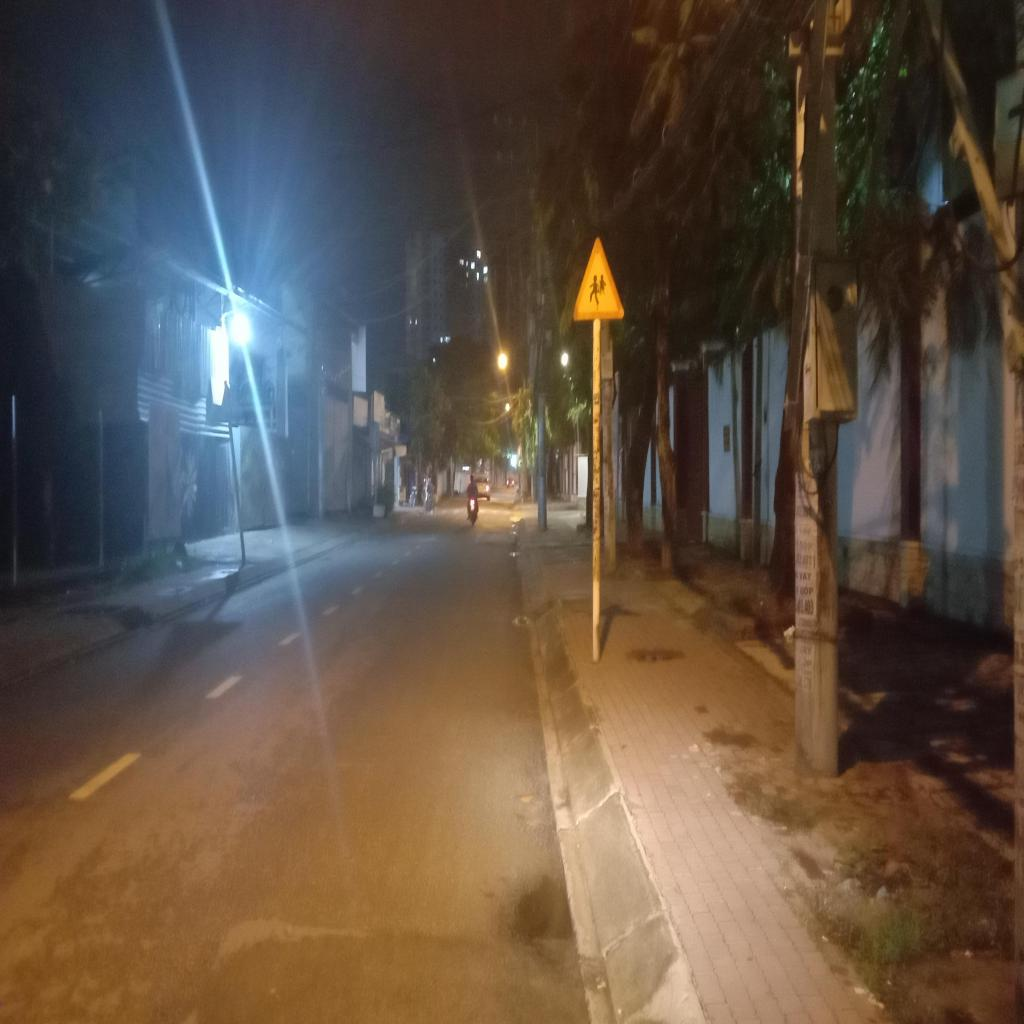chu_y_tre_em: (570, 232, 627, 320)
